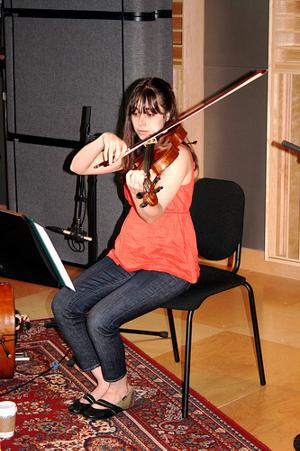person: (52, 78, 202, 420)
